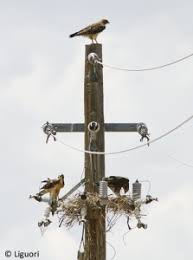bird-nest: (61, 192, 131, 217)
